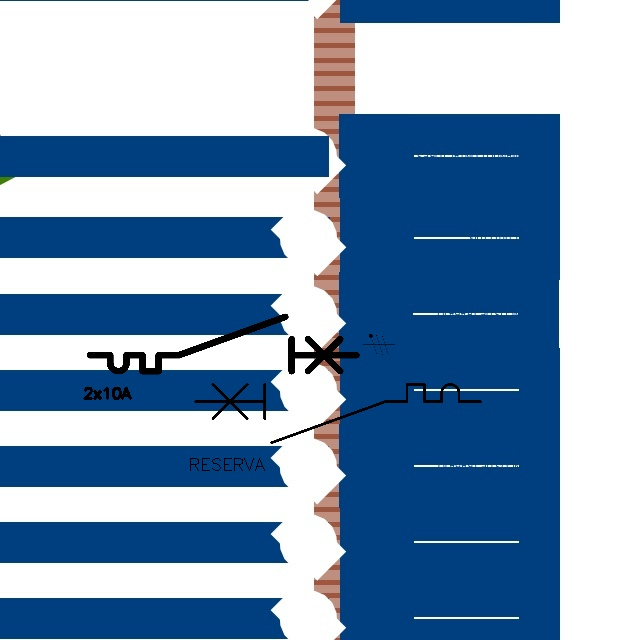interruptor_termomagnetico: (188, 377, 488, 450), (83, 310, 363, 378)
